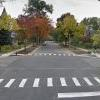Crosswalk: (4, 70, 99, 99)
